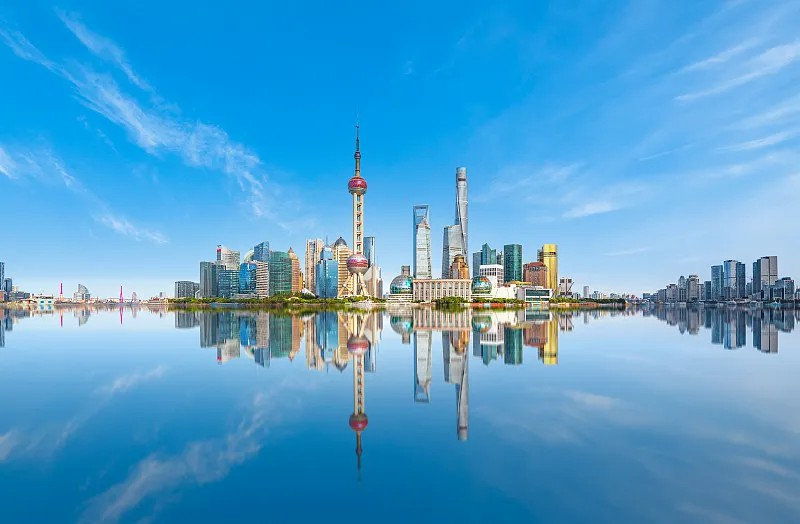Oriental: (337, 121, 368, 295)
